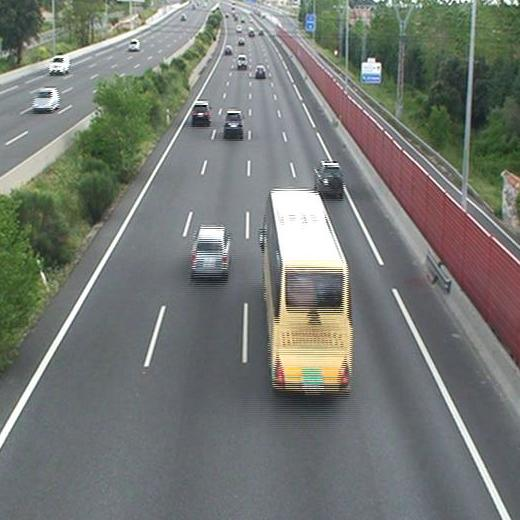bus: (262, 190, 353, 394)
car: (190, 227, 229, 274), (315, 163, 343, 191), (224, 111, 244, 132), (191, 102, 211, 122), (255, 66, 266, 77), (237, 56, 247, 67), (223, 45, 233, 54), (237, 37, 245, 46)
